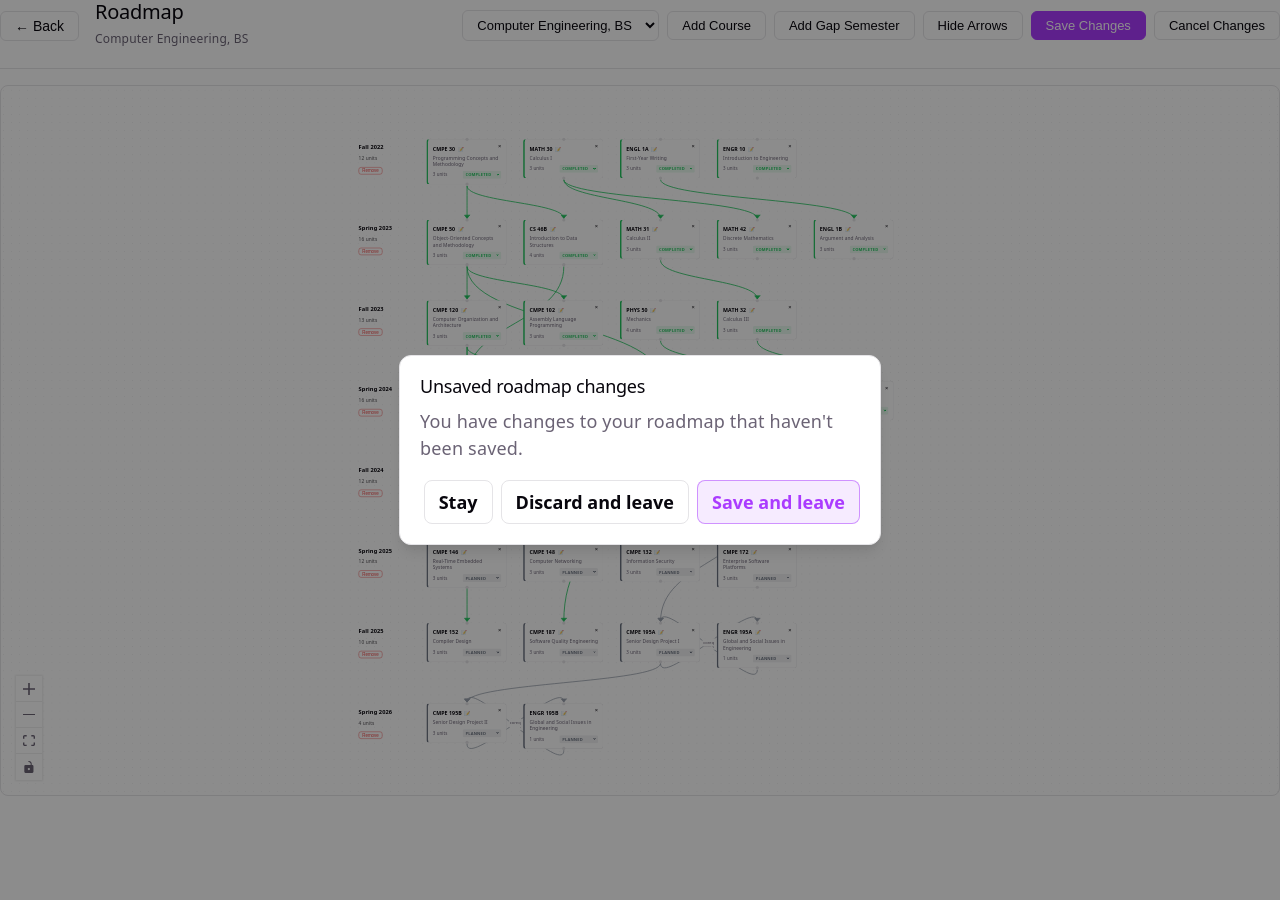
Test case: Roadmap leave guard › asks before leaving with unsaved changes and stays on Stay
expect the dialog "Unsaved roadmap changes" is shown: met, box [399,355,881,545]
What coordinates should you click on to do the following:
click the button "Stay"
I would click on:
 (458, 502)
Its box is [424,480,493,524].
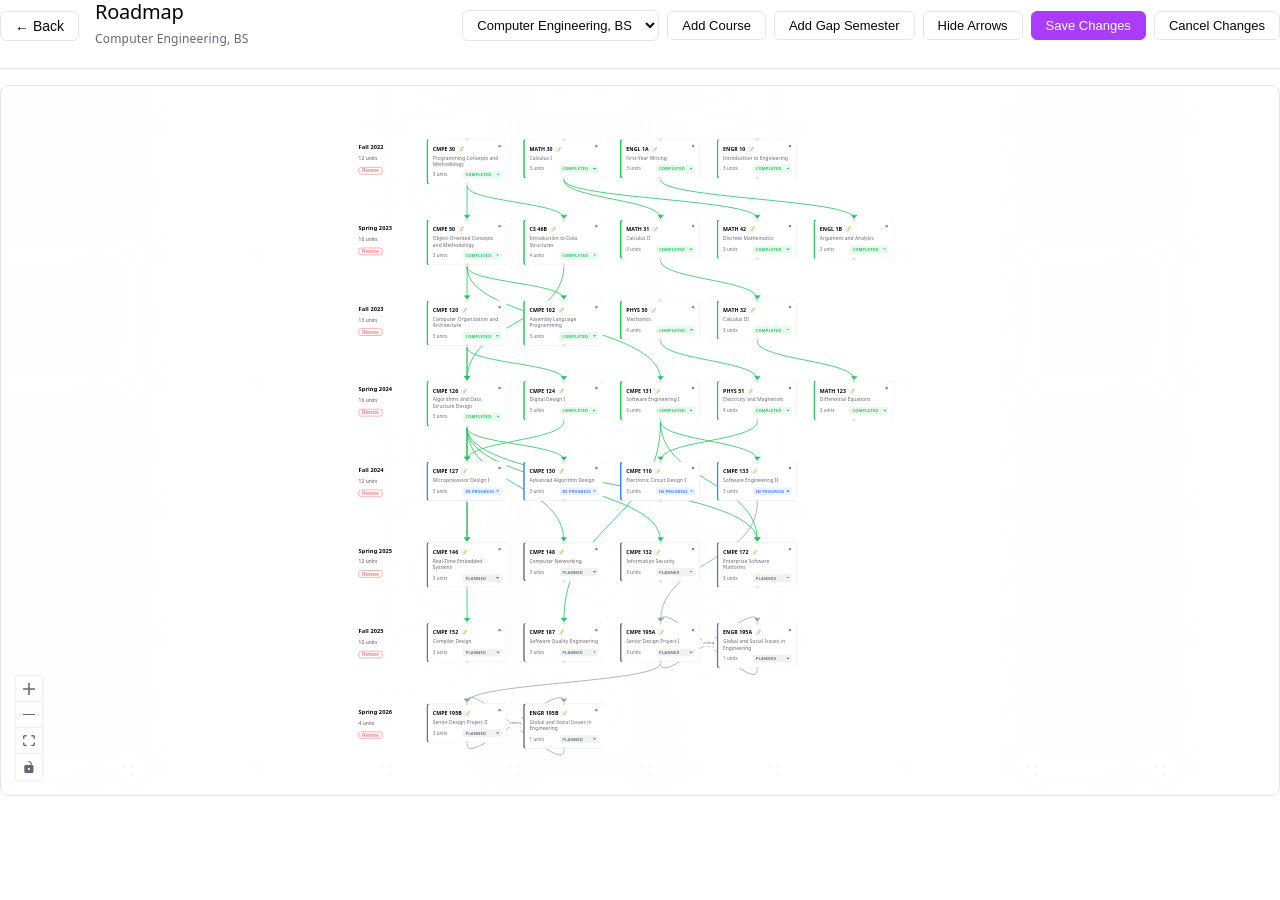
expect the dialog is gone: met
